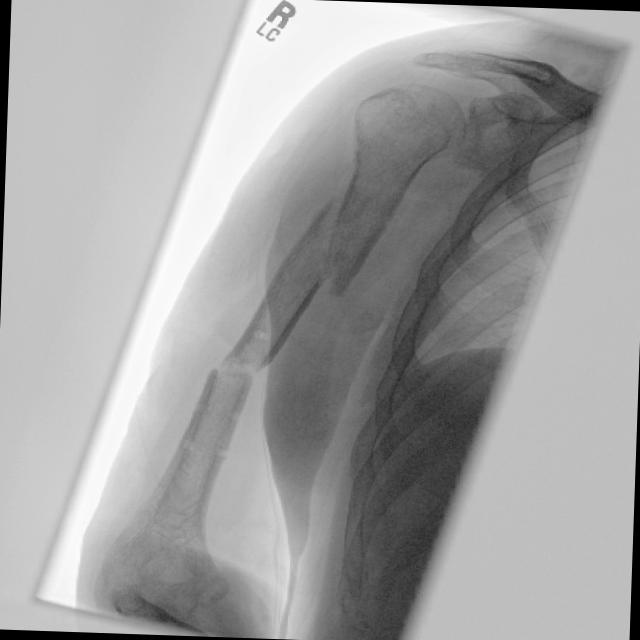humerus fracture: (254, 166, 418, 334), (167, 314, 315, 451)
